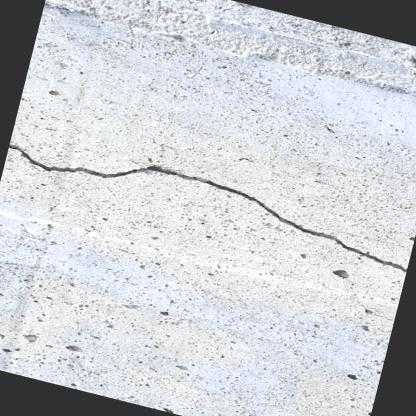crack: (11, 144, 407, 272)
